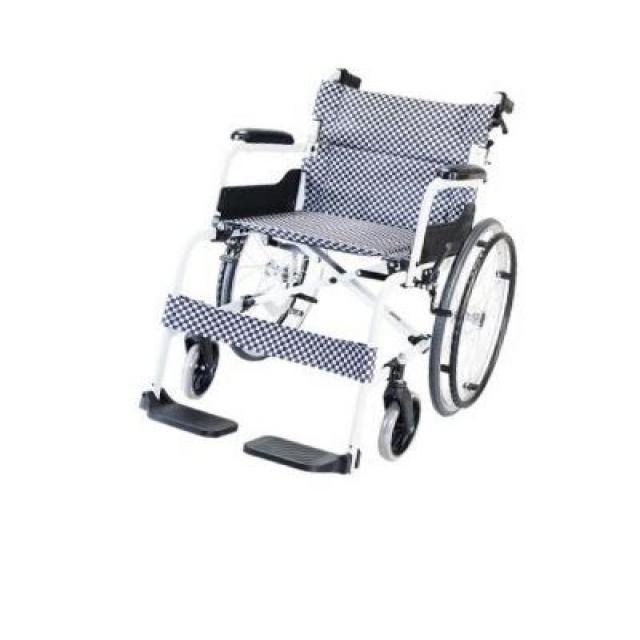wheelchair: (123, 59, 540, 489)
